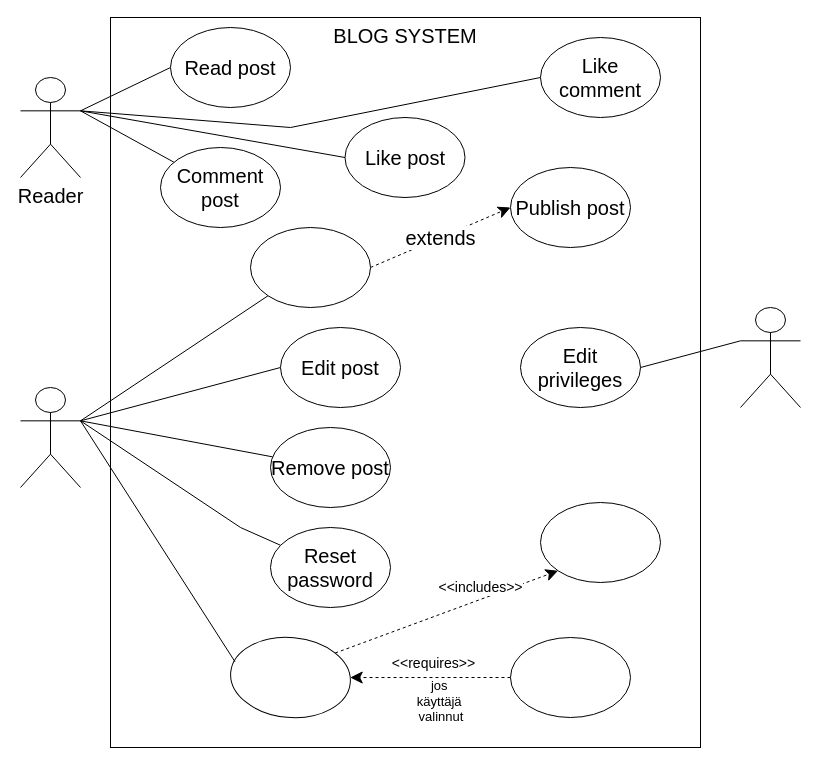
The diagram is 818 pixels wide and 765 high, and some of its shapes have lost their labels. Each missing label, with the centre of its shape:
2-factor auth: the point at 570,677
Admin: the point at 770,357
Author: the point at 50,437
Login: the point at 290,677
Register new user: the point at 600,542
Write post: the point at 310,267
